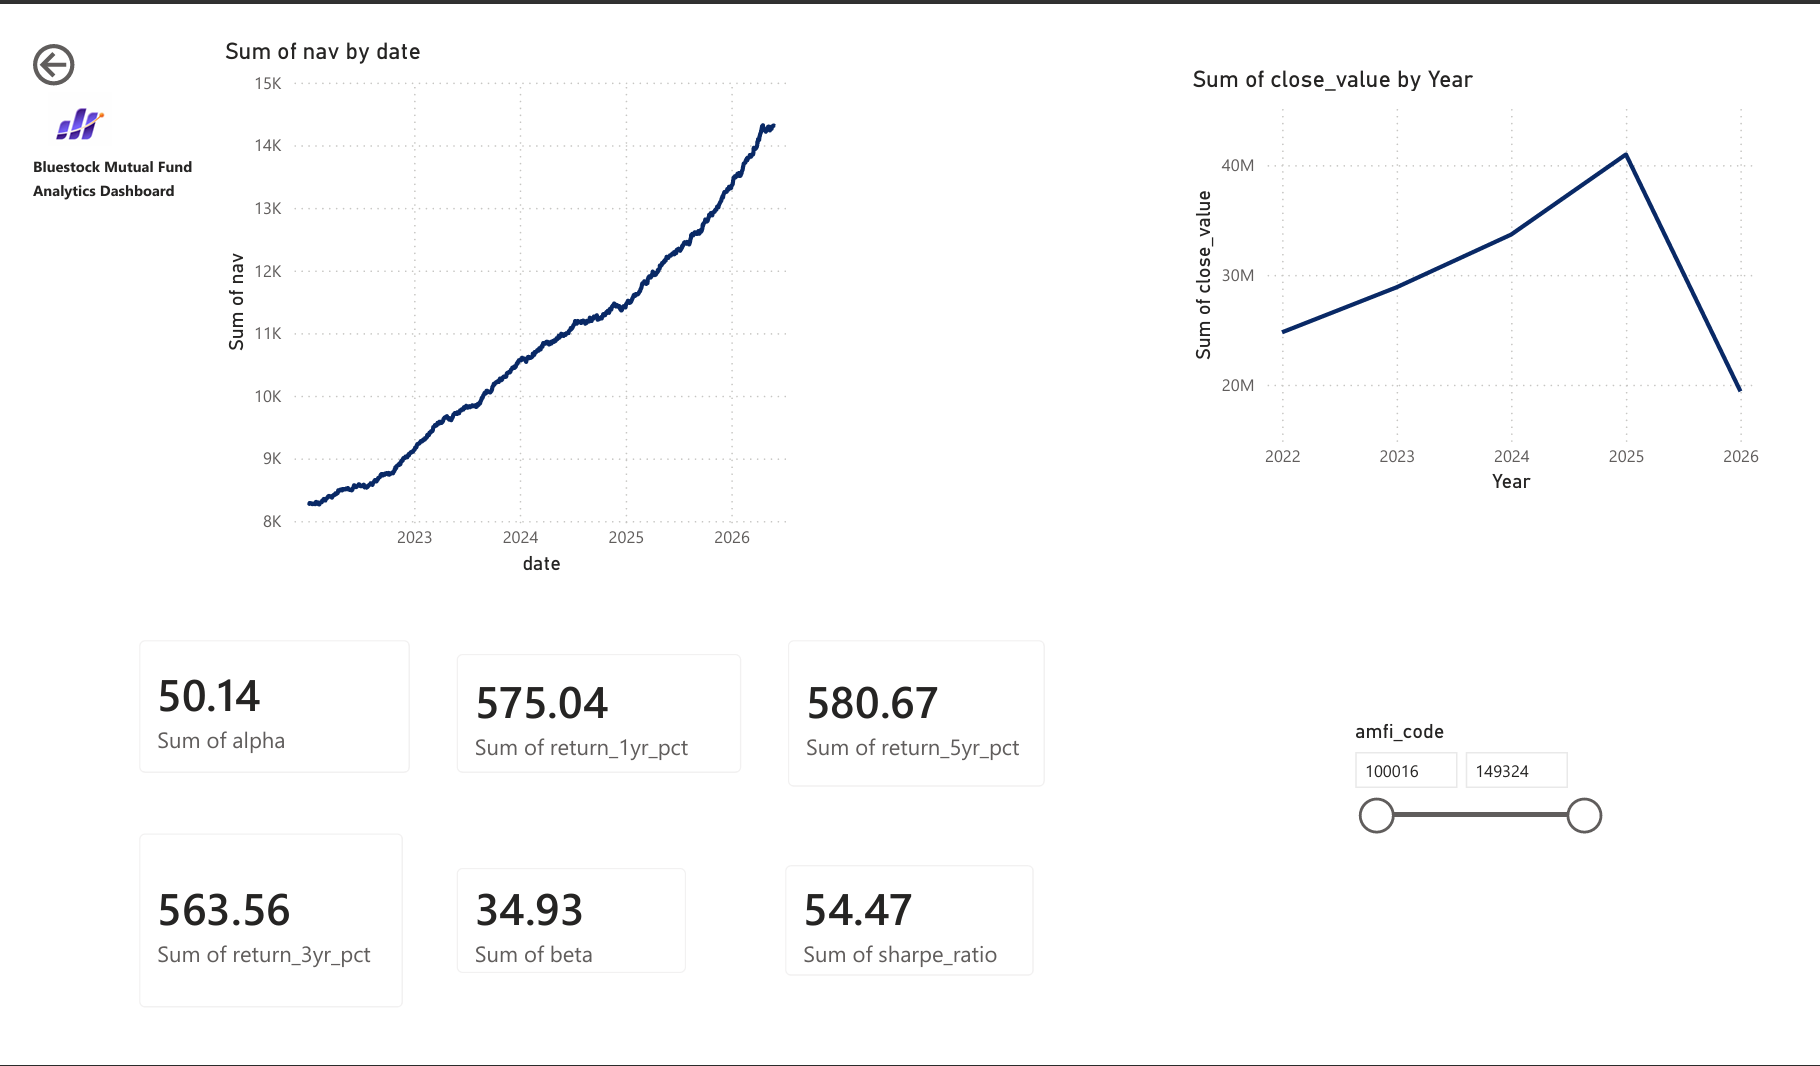

What the dashboard file says about the page in this screenshot:
{"tool":"powerbi","page":{"name":"Fund Details","canvas":[1280,720],"ordinal":4},"visuals":[{"type":"actionButton","box":[0,0,100,40],"z":0},{"type":"lineChart","fields":{"Category":["nav_history_clean.date"],"Y":["Sum(nav_history_clean.nav)"]},"box":[138.6,0,421.4,394.3],"z":1},{"type":"cardVisual","fields":{"Data":["Sum(scheme_performance_clean.alpha)"]},"box":[65,420,230,130],"z":2},{"type":"cardVisual","fields":{"Data":["Sum(scheme_performance_clean.return_1yr_pct)"]},"box":[295,430,240,120],"z":3},{"type":"cardVisual","fields":{"Data":["Sum(scheme_performance_clean.return_3yr_pct)"]},"box":[65,560,225,160],"z":4},{"type":"cardVisual","fields":{"Data":["Sum(scheme_performance_clean.return_5yr_pct)"]},"box":[535,420,220,140],"z":5},{"type":"cardVisual","fields":{"Data":["Sum(scheme_performance_clean.beta)"]},"box":[295,585,200,110],"z":6},{"type":"cardVisual","fields":{"Data":["Sum(scheme_performance_clean.sharpe_ratio)"]},"box":[533.3,583.3,213.3,113.3],"z":7},{"type":"lineChart","fields":{"Category":["benchmark_indices_clean.date.Variation.Date Hierarchy.Year","benchmark_indices_clean.date.Variation.Date Hierarchy.Quarter","benchmark_indices_clean.date.Variation.Date Hierarchy.Month","benchmark_indices_clean.date.Variation.Date Hierarchy.Day"],"Y":["Sum(benchmark_indices_clean.close_value)"]},"box":[840,20,420,315],"z":8},{"type":"slicer","fields":{"Values":["fund_master_clean.amfi_code"]},"box":[950,490,200,155],"z":9},{"type":"image","box":[0,40,77.1,45.7],"z":10},{"type":"textbox","box":[0,78.6,128.6,47.1],"z":11}]}

Visuals, with their boxes on the page's 1280x720 design canvas (x1, y1, x2, y2). These are canvas units, not pixel positions in the 1820x1066 screenshot, which may show the page scaled, cropped or inside an application window:
actionButton: x1=0 y1=0 x2=100 y2=40
lineChart - nav_history_clean.date x Sum(nav_history_clean.nav): x1=139 y1=0 x2=560 y2=394
cardVisual - Sum(scheme_performance_clean.alpha): x1=65 y1=420 x2=295 y2=550
cardVisual - Sum(scheme_performance_clean.return_1yr_pct): x1=295 y1=430 x2=535 y2=550
cardVisual - Sum(scheme_performance_clean.return_3yr_pct): x1=65 y1=560 x2=290 y2=720
cardVisual - Sum(scheme_performance_clean.return_5yr_pct): x1=535 y1=420 x2=755 y2=560
cardVisual - Sum(scheme_performance_clean.beta): x1=295 y1=585 x2=495 y2=695
cardVisual - Sum(scheme_performance_clean.sharpe_ratio): x1=533 y1=583 x2=747 y2=697
lineChart - benchmark_indices_clean.date.Variation.Date Hierarchy.Year x benchmark_indices_clean.date.Variation.Date Hierarchy.Quarter: x1=840 y1=20 x2=1260 y2=335
slicer - fund_master_clean.amfi_code: x1=950 y1=490 x2=1150 y2=645
image: x1=0 y1=40 x2=77 y2=86
textbox: x1=0 y1=79 x2=129 y2=126
